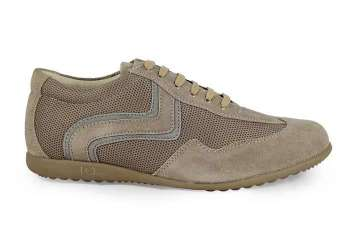Footwear: (22, 57, 334, 193)
